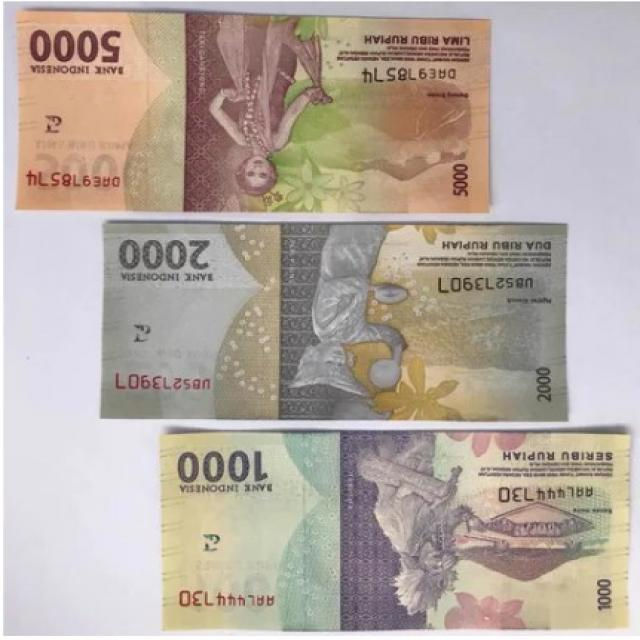1000IndonesianRupiah: (157, 432, 624, 628)
